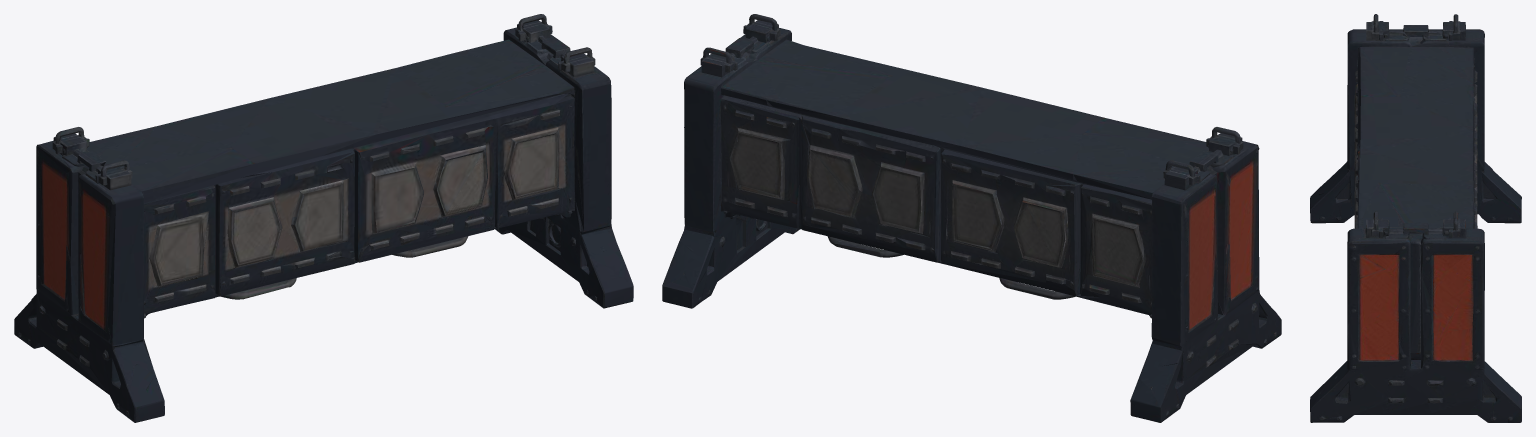
The model's file is transit-barrier.glb.
3 views of the same model, side by side, from view 1: azimuth 30°, elevation 25°; view 2: azimuth 150°, elevation 25°; view 3: azimuth 270°, elevation 25° (orthographic). The views are drawn at different scales.
Visible parts, largest first — view 1: mesh_node; view 2: mesh_node; view 3: mesh_node.
Part boxes in pixels (x1,y1,x2,y2): mesh_node: (14, 14, 633, 422); mesh_node: (662, 14, 1281, 422); mesh_node: (1310, 14, 1521, 422).
Bounding box in the file's own units: 1.9 × 0.8245 × 0.7903.
1 material, 1 textured.
